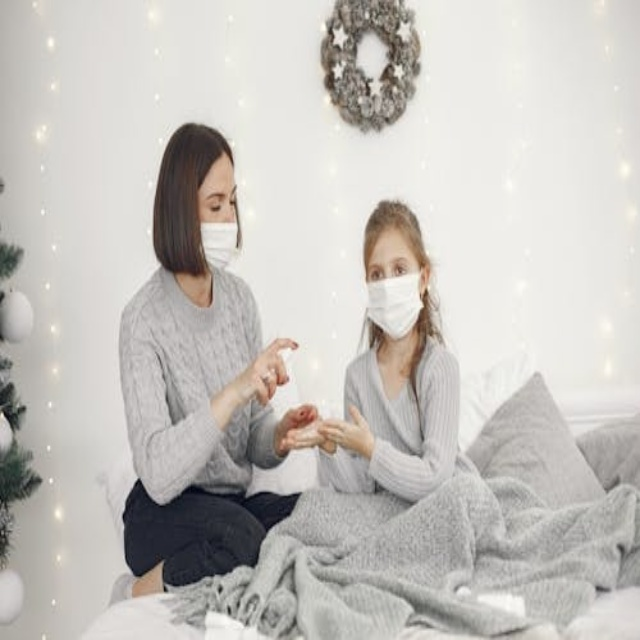Mascara: (365, 271, 426, 339), (199, 221, 241, 272)
Sin_gafas: (367, 248, 419, 283), (202, 177, 241, 217)
Sin_guantes: (245, 337, 300, 403), (315, 401, 373, 461), (273, 402, 325, 453)
